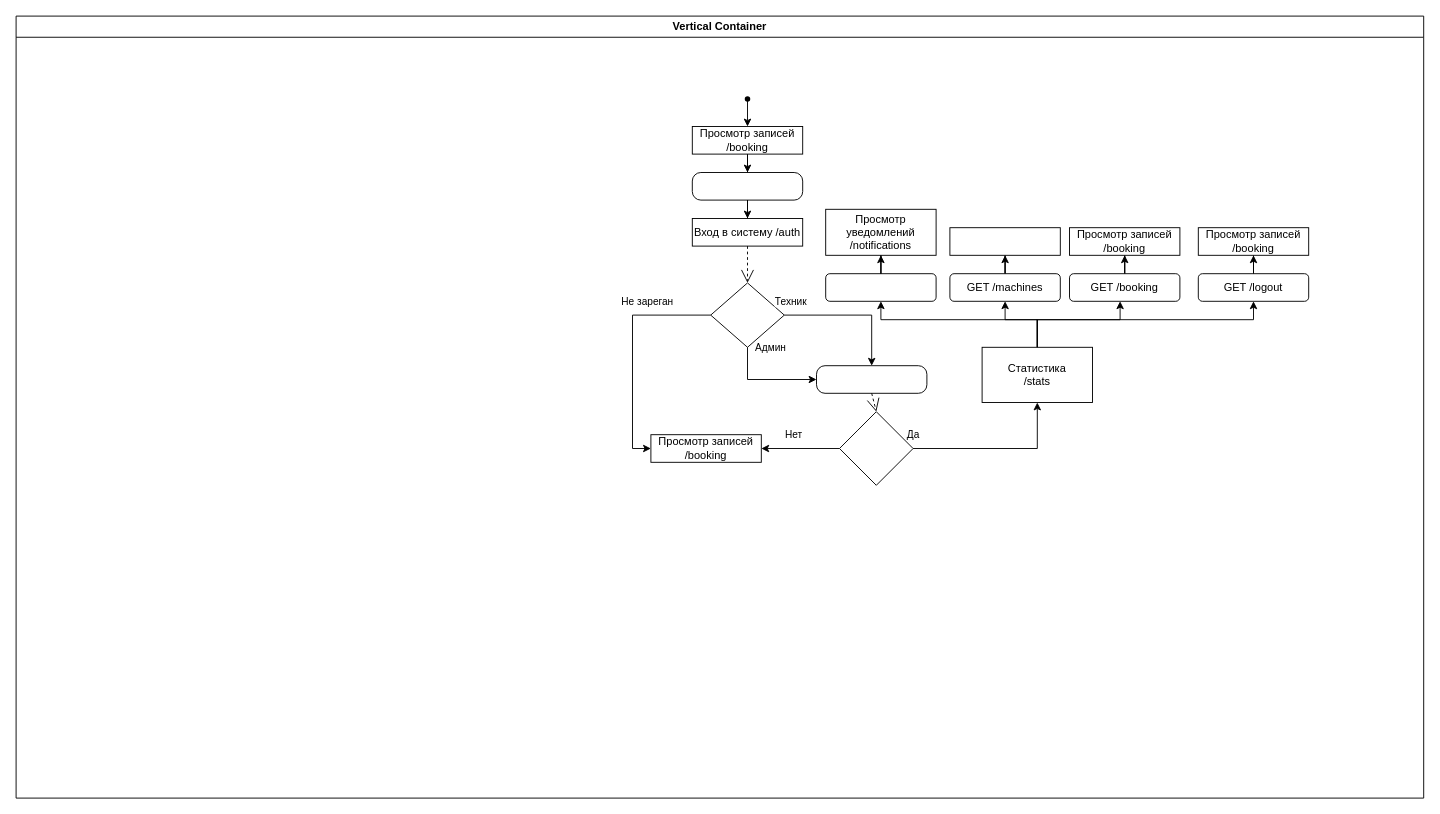
Image size: 1440x814. Some labels were removed from this diagram. The box of each missing label's shape, as (x1, y1, x2, y2) in pixels:
GET /login: (691, 172, 803, 200)
GET /notifications: (825, 273, 936, 301)
POST /login: (816, 365, 927, 393)
Просмотр записей / machines: (949, 227, 1060, 255)
Роль: (710, 282, 784, 347)
Успешно: (839, 411, 913, 485)
